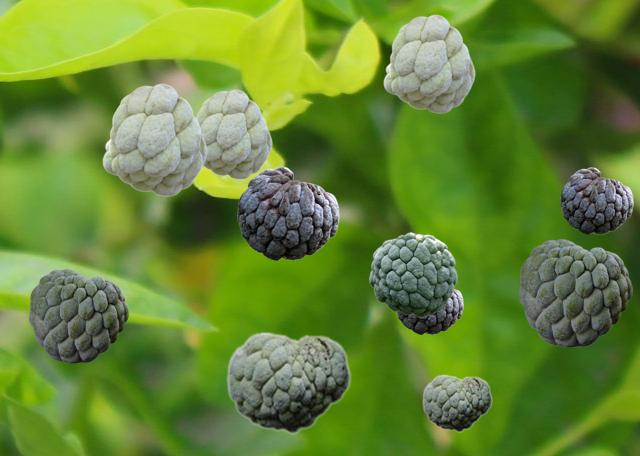atis: (226, 331, 350, 433), (519, 239, 631, 346), (102, 83, 206, 195), (237, 166, 338, 259), (29, 269, 127, 362), (383, 14, 474, 112), (369, 232, 456, 316), (196, 89, 271, 178), (560, 167, 632, 233), (422, 374, 491, 431), (397, 289, 462, 333)
